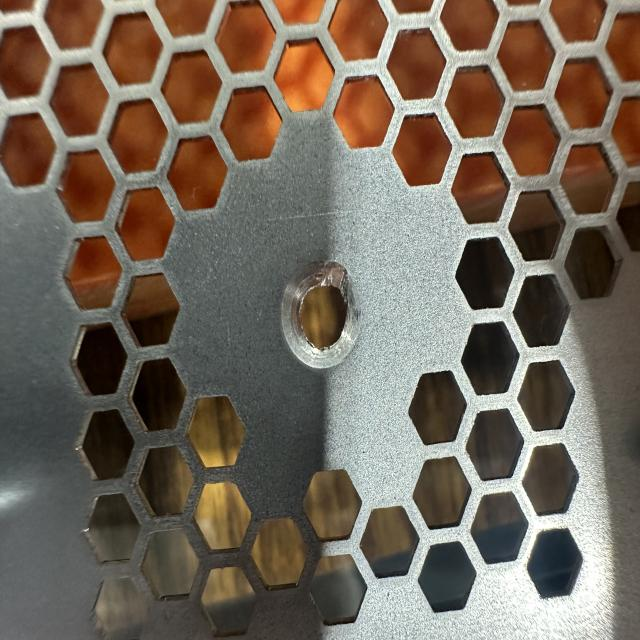Missing screw: (266, 253, 371, 382)
